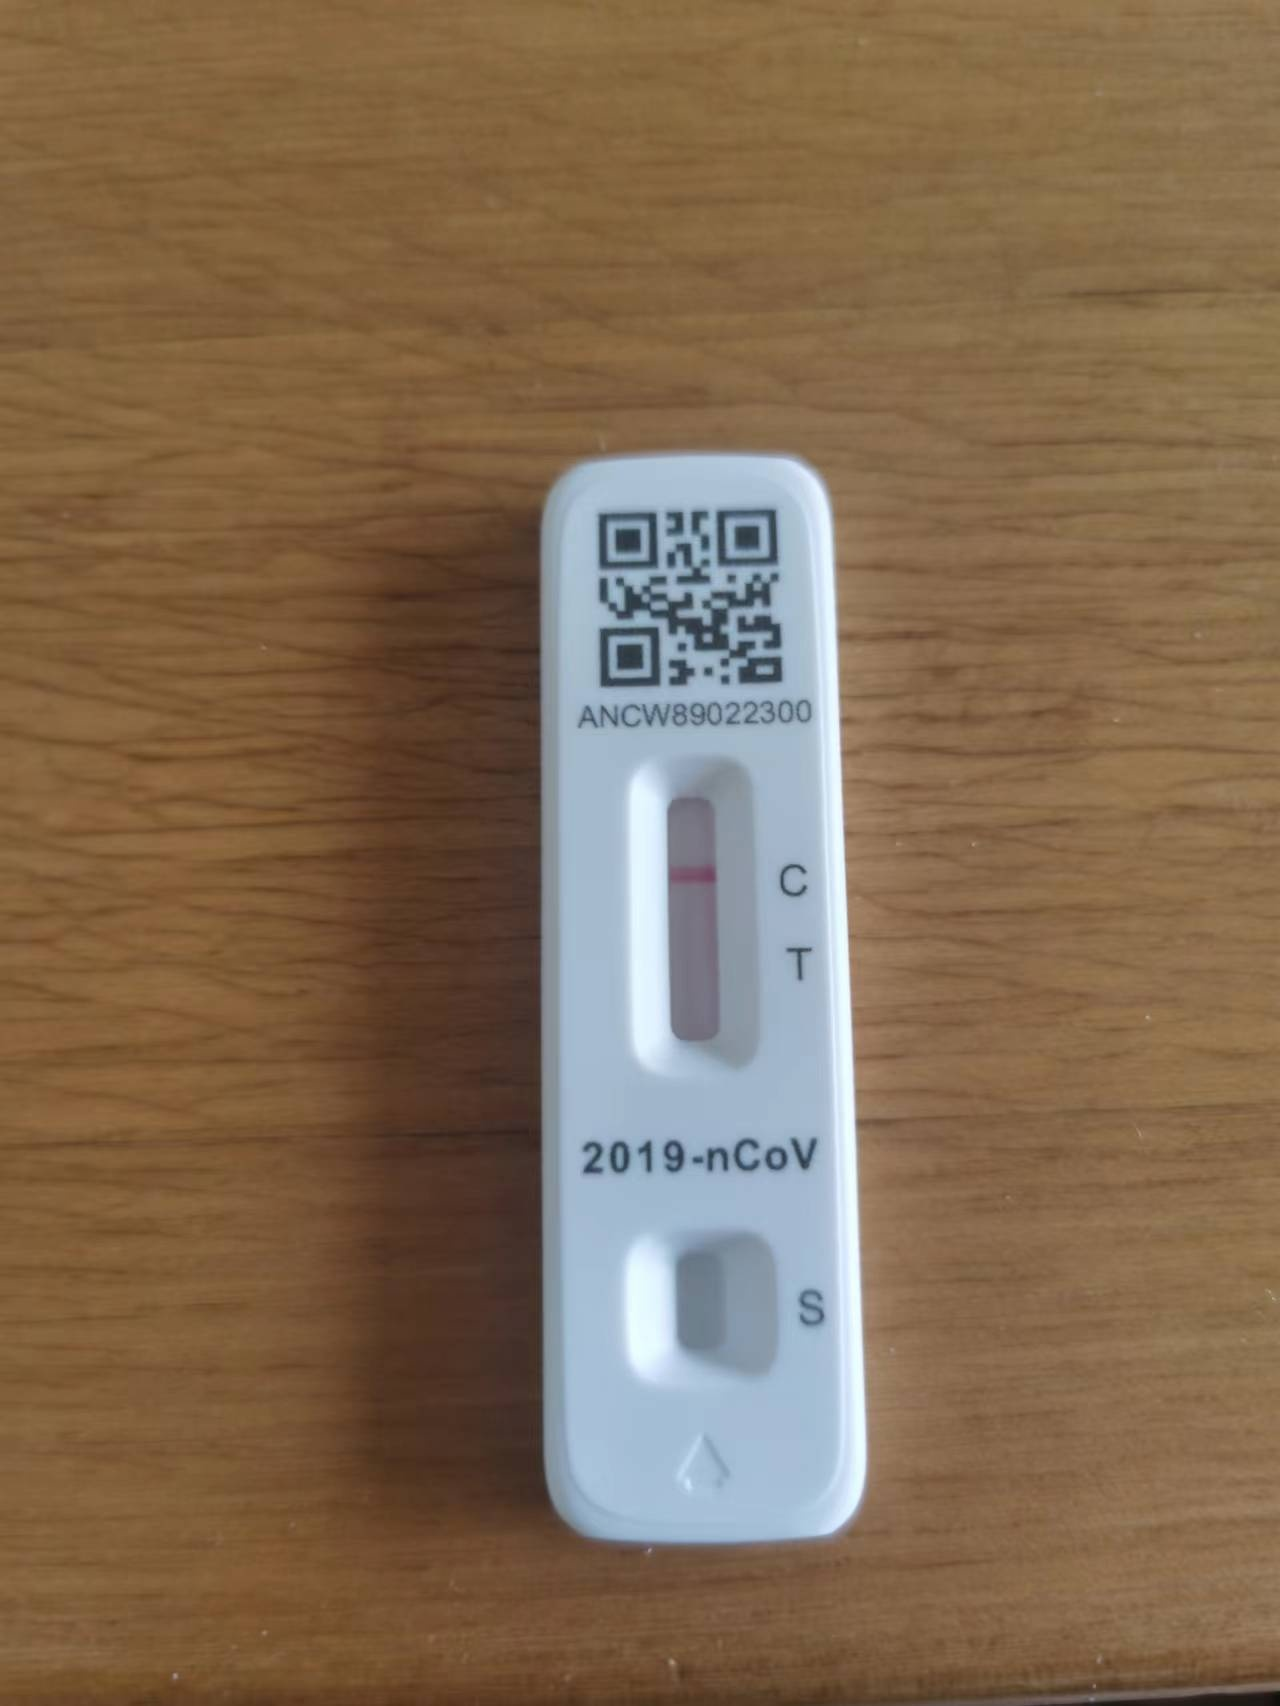negative: (639, 756, 754, 1080)
